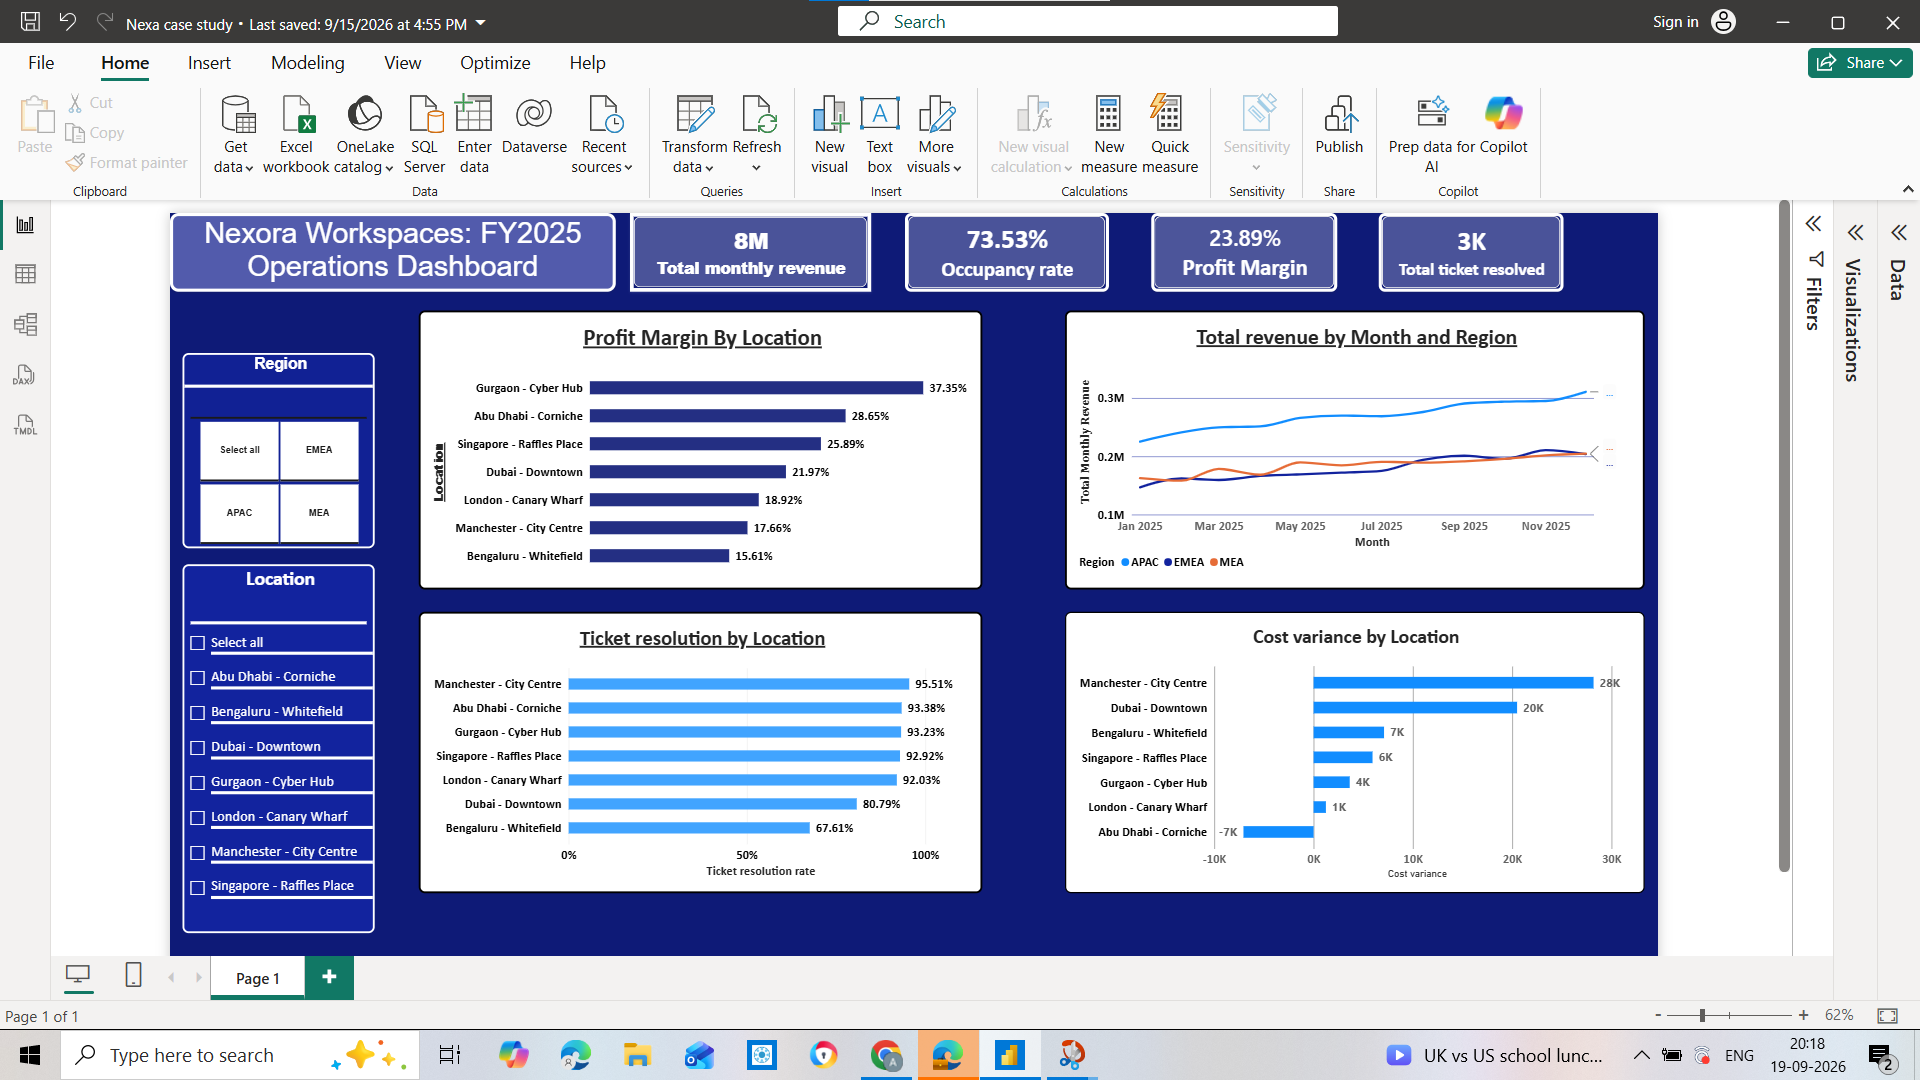

Layout of this report page (visuals, bound fields, positions):
{"tool":"powerbi","page":{"name":"Page 1","canvas":[1920,1080],"ordinal":0},"visuals":[{"type":"textbox","box":[0,0,575,101.8],"z":1000},{"type":"cardVisual","fields":{"Data":["Sum(Raw Data.Monthly Revenue (USD))"]},"box":[593.5,0,311.3,101.6],"z":2000},{"type":"cardVisual","fields":{"Data":["Raw Data.Occupancy rate"]},"box":[948.4,0,262.9,101.6],"z":3000},{"type":"cardVisual","fields":{"Data":["Raw Data.Profit Margin"]},"box":[1266.1,0,240.3,101.6],"z":4000},{"type":"cardVisual","fields":{"Data":["Sum(Raw Data.Tickets Resolved)"]},"box":[1559.7,0,238.7,101.6],"z":5000},{"type":"barChart","title":"Profit Margin By Location","fields":{"Y":["Raw Data.Profit Margin"],"Category":["Raw Data.Location"]},"box":[321,125.8,727.4,359.7],"z":6000},{"type":"lineChart","title":"Total revenue by Month and Region","fields":{"Category":["Raw Data.Month"],"Y":["Sum(Raw Data.Monthly Revenue (USD))"],"Series":["Raw Data.Region"]},"box":[1154.8,125.8,748.4,359.7],"z":7000},{"type":"clusteredBarChart","title":"Ticket resolution by Location","fields":{"Category":["Raw Data.Location"],"Y":["Raw Data.Ticket resolution rate"]},"box":[321,514.5,727.4,362.9],"z":8000},{"type":"clusteredBarChart","fields":{"Category":["Raw Data.Location"],"Y":["Raw Data.Cost variance"]},"box":[1154.8,514.5,748.4,362.9],"z":9000},{"type":"slicer","title":"Location","fields":{"Values":["Raw Data.Location"]},"box":[16.1,453.2,248.4,475.8],"z":10000},{"type":"slicer","title":"Region","fields":{"Values":["Raw Data.Region"]},"box":[16.1,180.6,248.4,251.6],"z":11000}]}

Visuals, with their boxes on the page's 1920x1080 design canvas (x1, y1, x2, y2). These are canvas units, not pixel positions in the 1920x1080 screenshot, which may show the page scaled, cropped or inside an application window:
textbox: bbox(0, 0, 575, 102)
cardVisual - Sum(Raw Data.Monthly Revenue (USD)): bbox(594, 0, 905, 102)
cardVisual - Raw Data.Occupancy rate: bbox(948, 0, 1211, 102)
cardVisual - Raw Data.Profit Margin: bbox(1266, 0, 1506, 102)
cardVisual - Sum(Raw Data.Tickets Resolved): bbox(1560, 0, 1798, 102)
"Profit Margin By Location" barChart: bbox(321, 126, 1048, 486)
"Total revenue by Month and Region" lineChart: bbox(1155, 126, 1903, 486)
"Ticket resolution by Location" clusteredBarChart: bbox(321, 514, 1048, 877)
clusteredBarChart - Raw Data.Location x Raw Data.Cost variance: bbox(1155, 514, 1903, 877)
"Location" slicer: bbox(16, 453, 264, 929)
"Region" slicer: bbox(16, 181, 264, 432)
